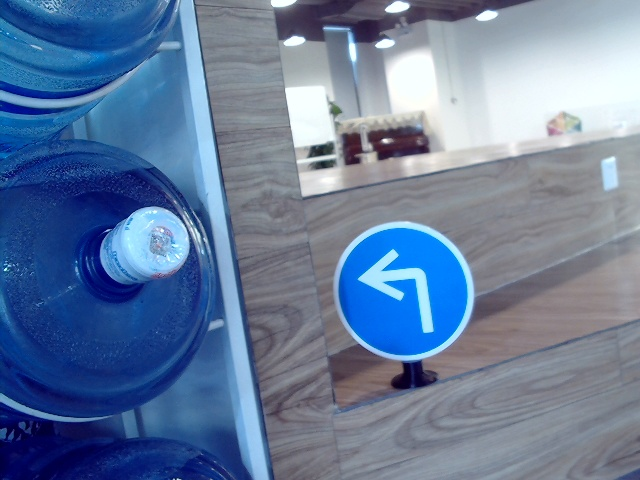turn_left: (358, 246, 439, 335)
